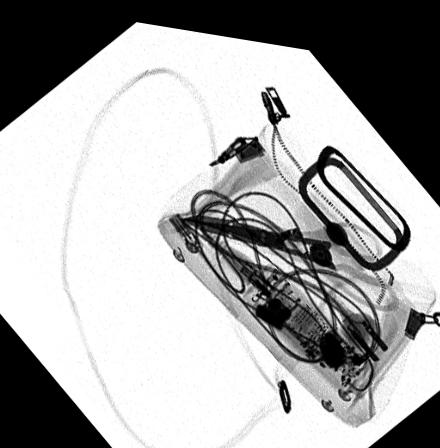Scissors: (172, 201, 402, 303)
